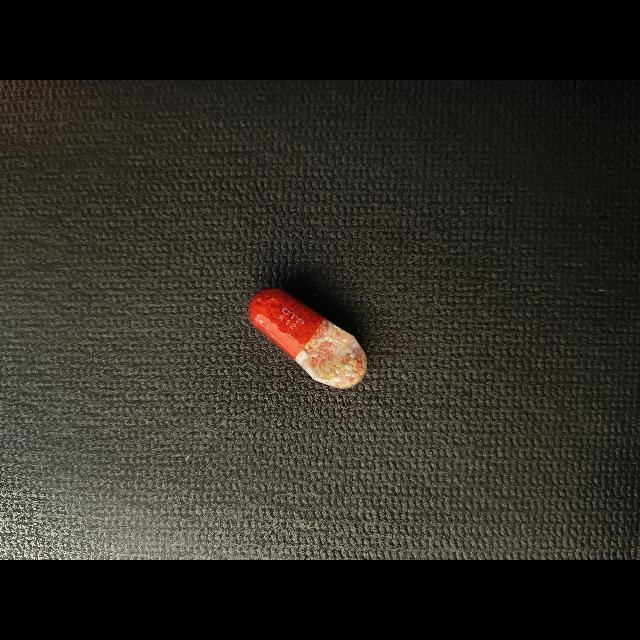Defective Capsule: (248, 288, 367, 389)
